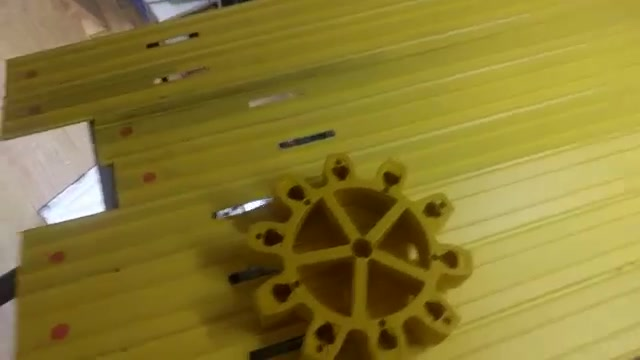gear: (230, 141, 479, 360)
